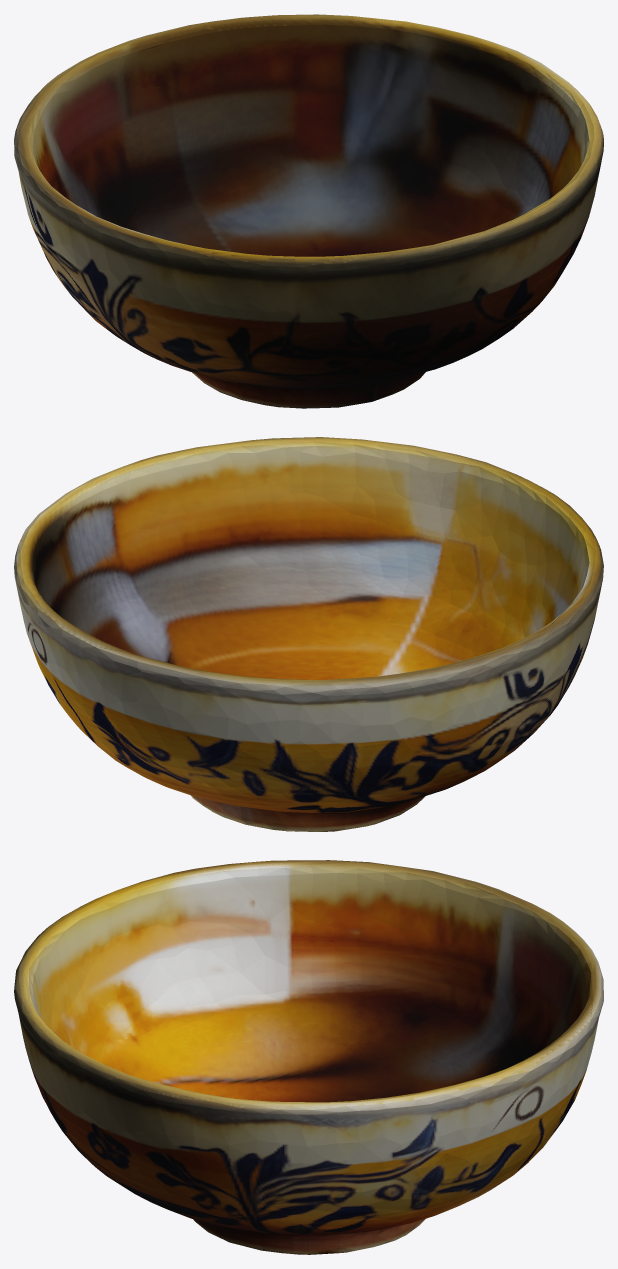
File: ceramic-dessert-bowl-rustic.jpeg.glb
3 views of the same model, one above another, from view 1: azimuth 30°, elevation 25°; view 2: azimuth 150°, elevation 25°; view 3: azimuth 270°, elevation 25° (orthographic).
Visible parts, largest first — view 1: world; view 2: world; view 3: world.
Boxes of the visible parts, box(x1,y1,x2,y2) form: world: box(14, 14, 603, 408); world: box(14, 437, 603, 831); world: box(14, 860, 603, 1254).
Size of the model in its own units: 0.9969 by 0.4176 by 0.9982.
Materials: 1 (1 with a texture image).
